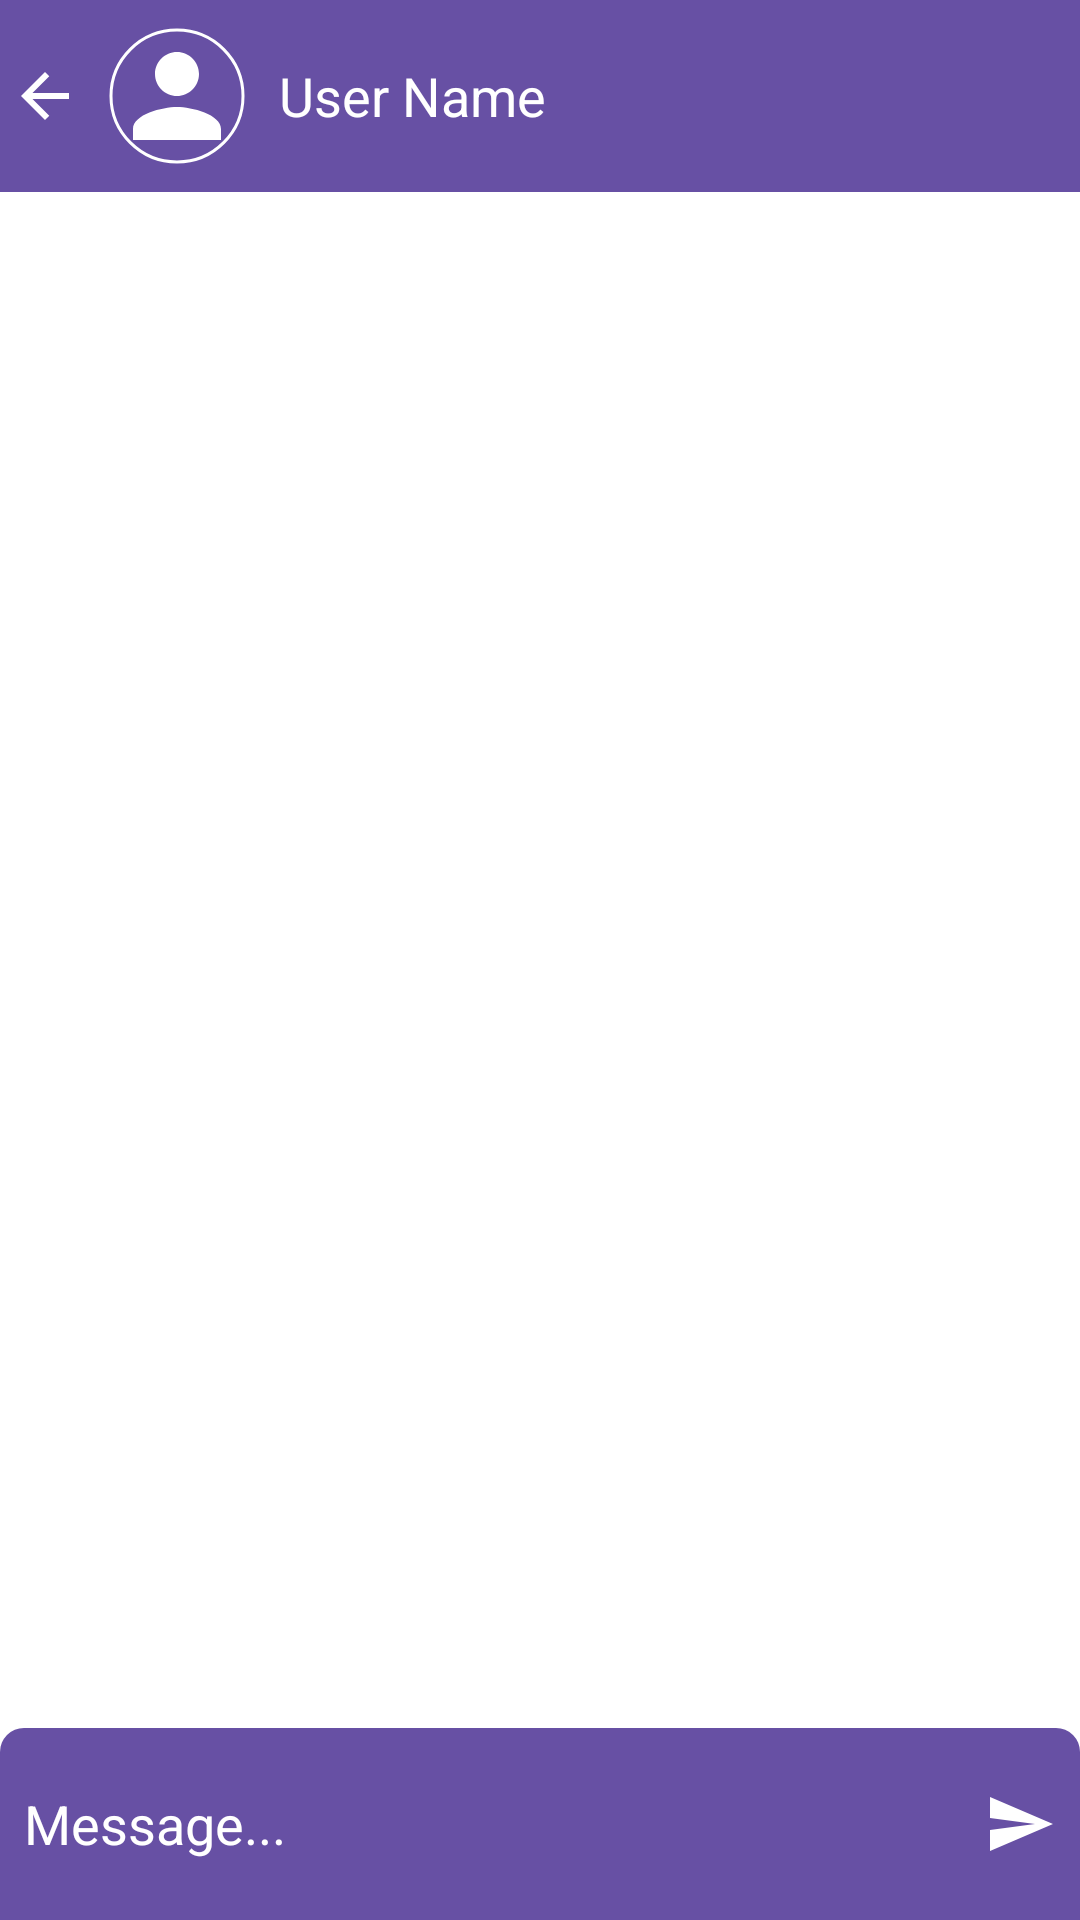

Icon click points for this 1080x1920 phone screenshot, format point (x, y):
arrow back: point (45, 96)
profile photo: point (177, 96)
send: point (1021, 1824)
